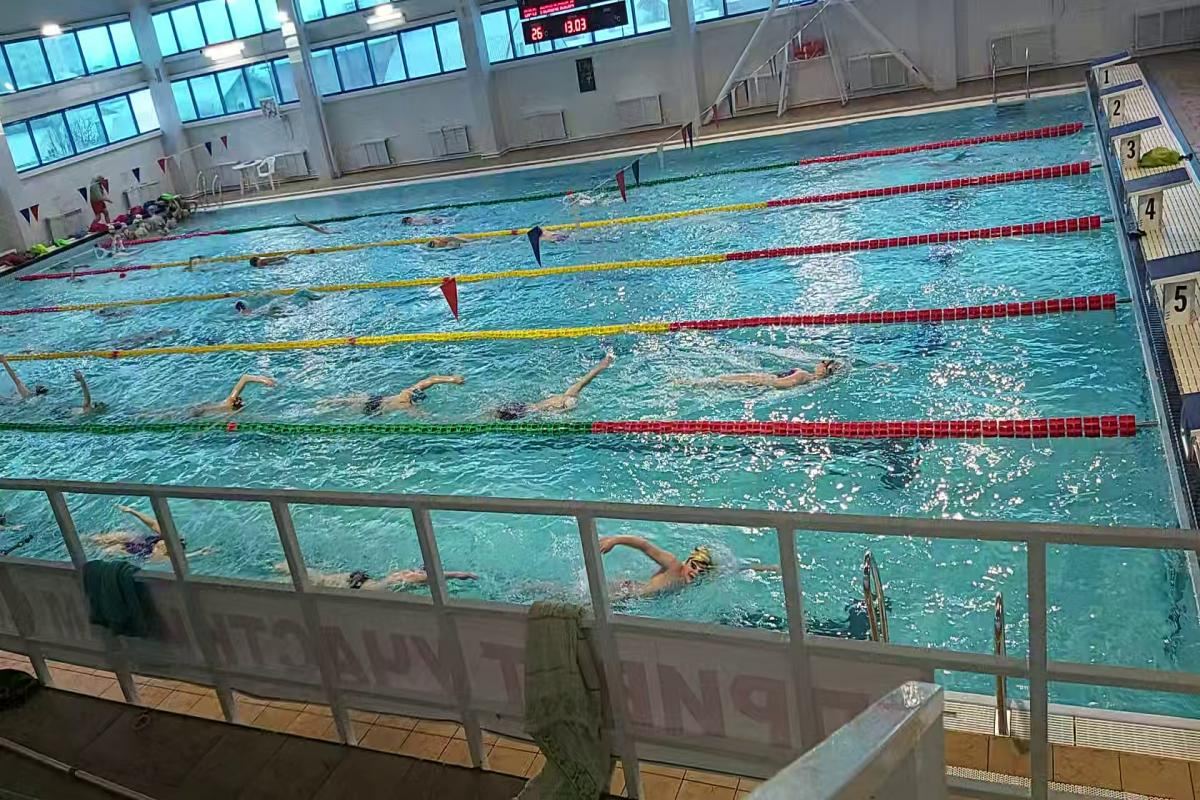swimmer: (563, 521, 773, 619), (671, 343, 875, 402), (325, 365, 475, 425), (486, 352, 613, 422), (273, 537, 428, 593), (81, 507, 190, 564), (179, 367, 277, 421), (61, 365, 119, 416), (1, 358, 55, 405), (226, 296, 305, 324), (292, 210, 350, 240), (403, 208, 460, 228), (246, 250, 303, 270), (424, 233, 473, 254)
